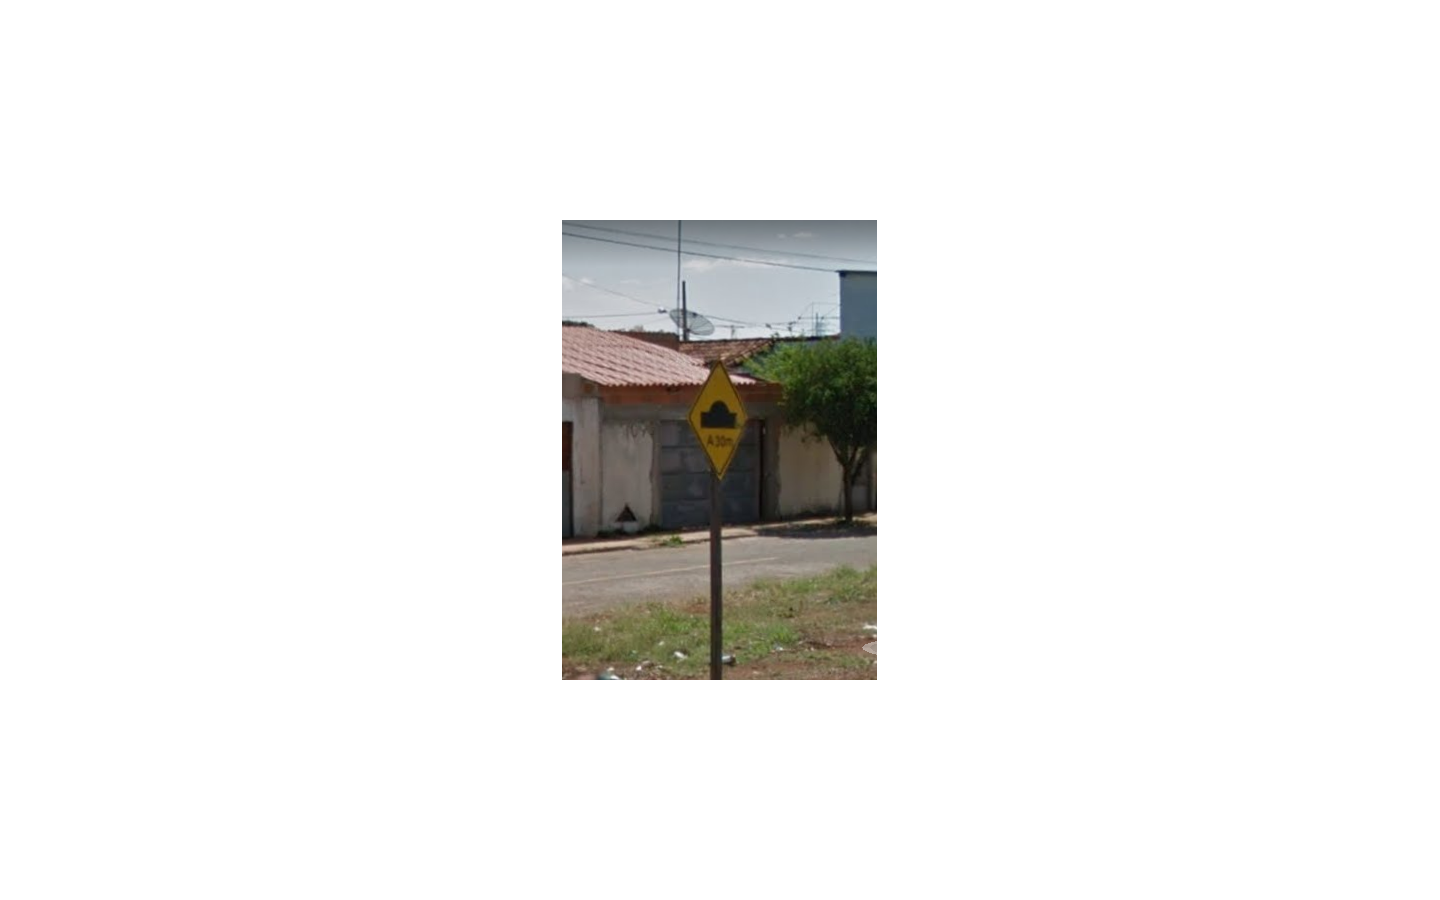l30m: (687, 361, 749, 479)
